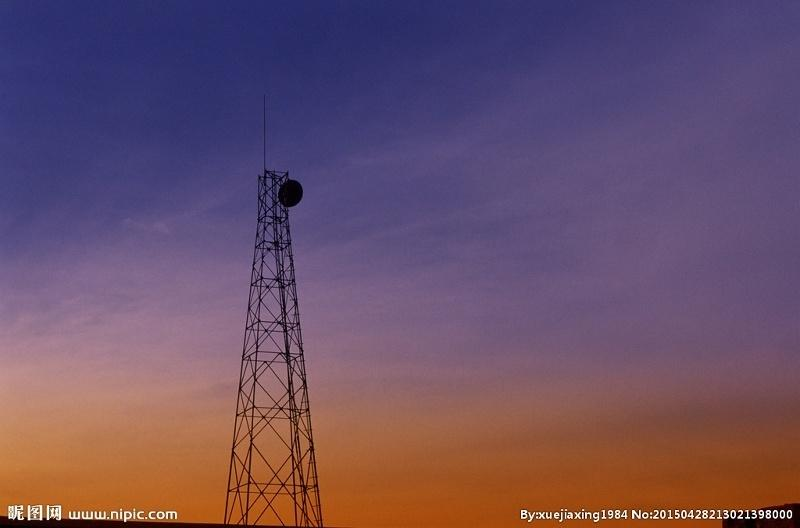power_tower: (215, 149, 319, 521)
